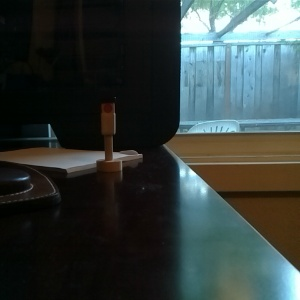traffic light red: (94, 93, 124, 175)
